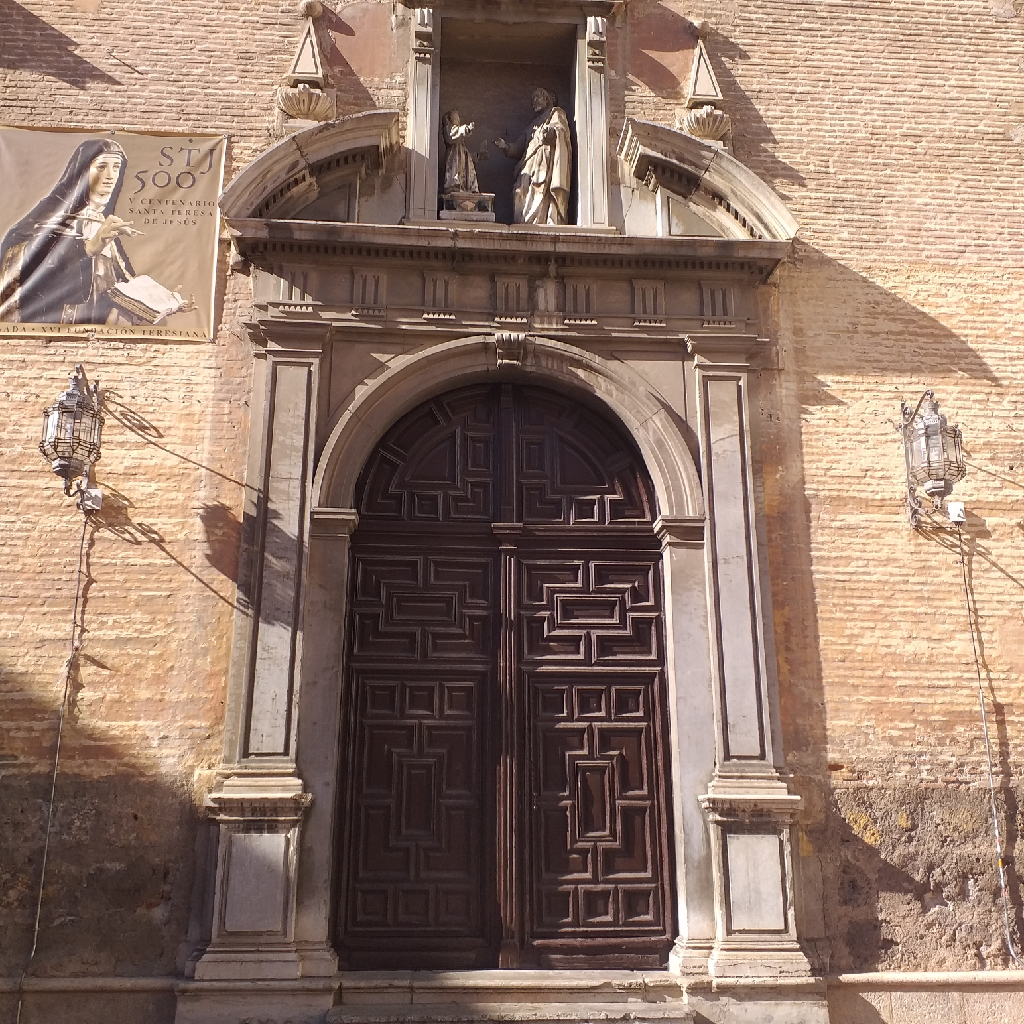arco-medio-punto: (328, 350, 681, 560)
fronton-partido: (227, 113, 791, 264)
vano-adintelado: (411, 0, 613, 233)
